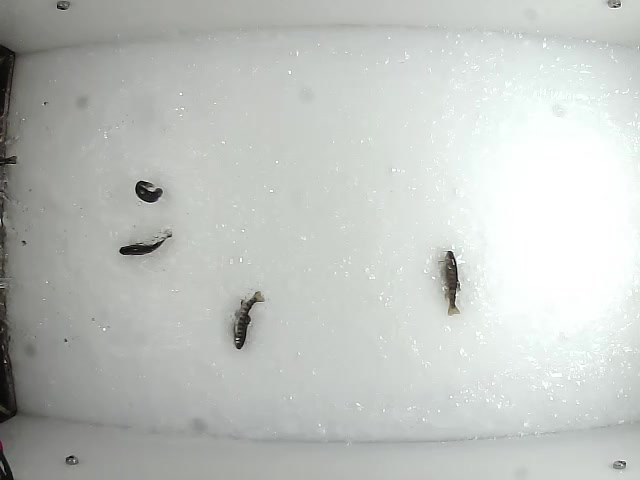fish: (231, 288, 266, 350), (115, 228, 177, 257), (440, 247, 462, 317), (132, 179, 164, 204)
